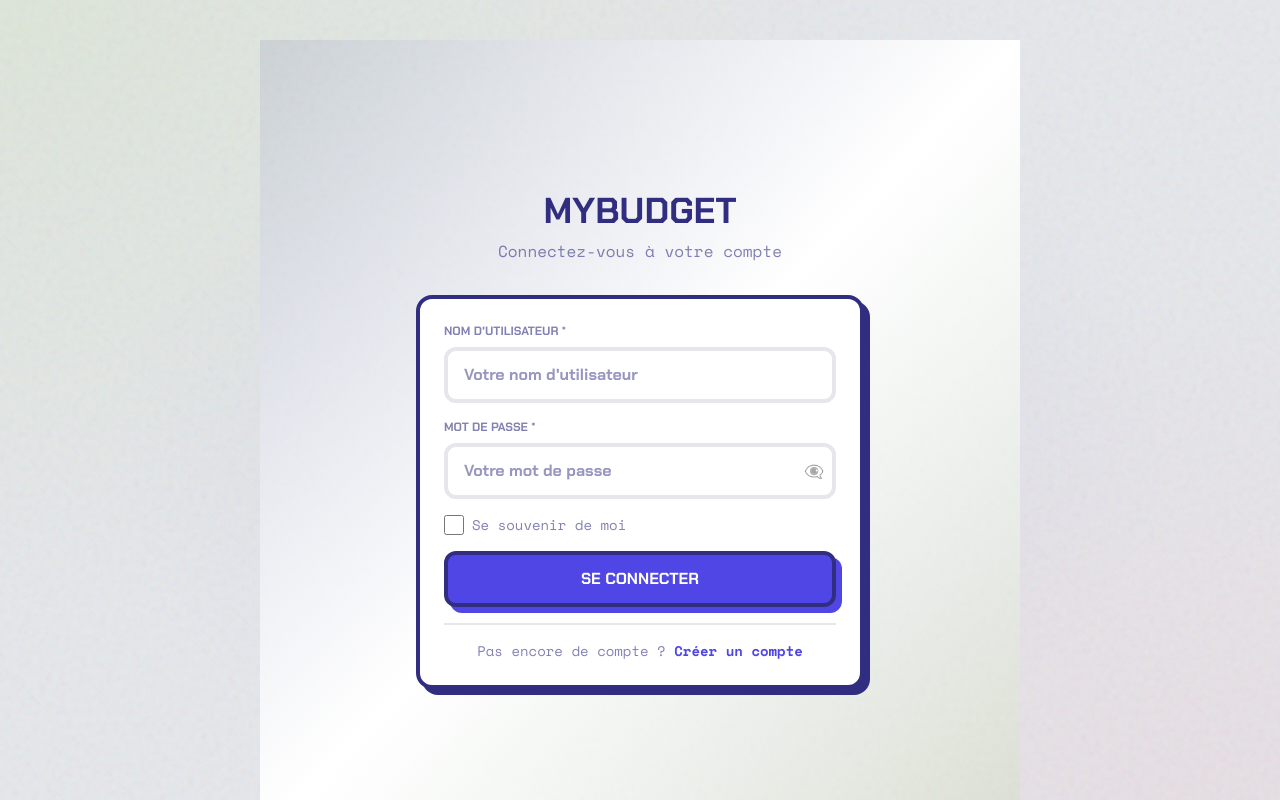
it: US02 - Connexion › Le bouton 'Se connecter' passe en état Loading pendant l'appel API
Type "alice" into the field with placeholder "Votre nom d'utilisateur" at (640, 375), box [444, 347, 836, 403]
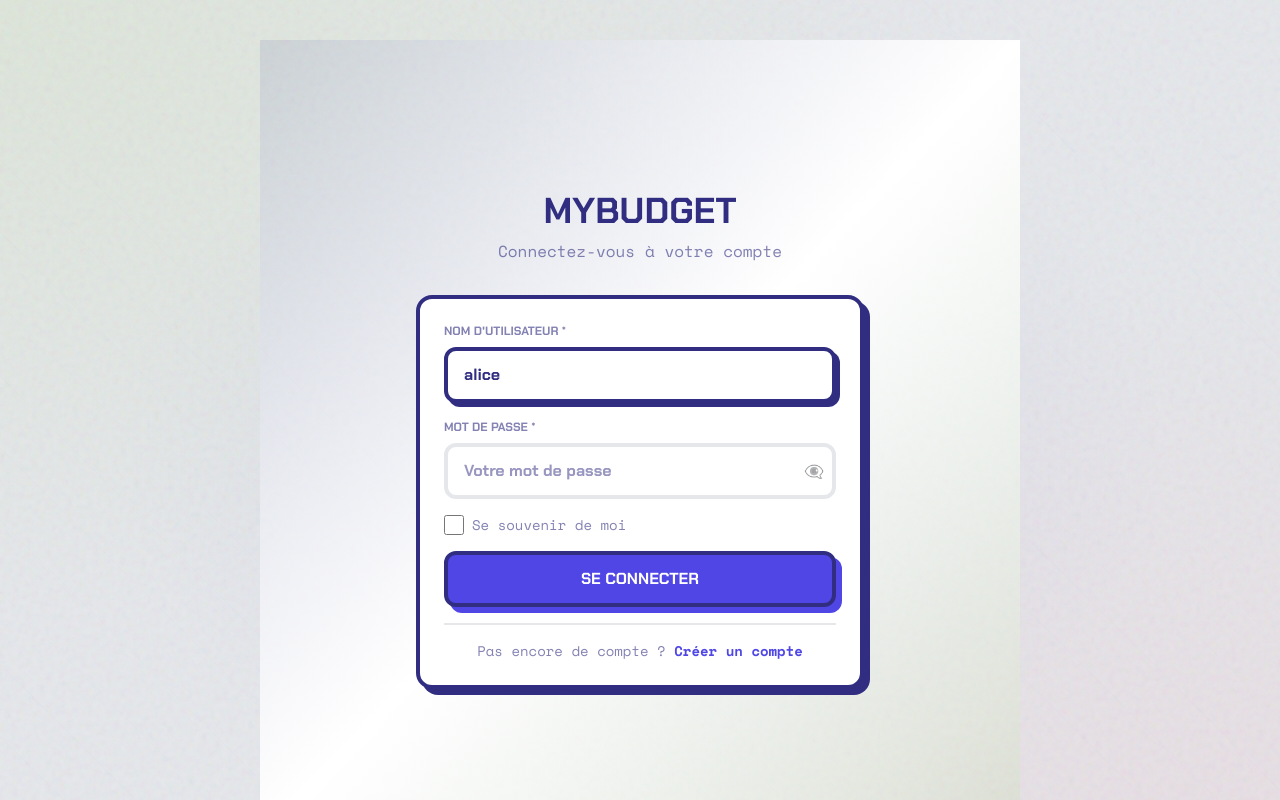
Type "Password123!" into the password field with placeholder "Votre mot de passe" at (640, 471), box [444, 443, 836, 499]
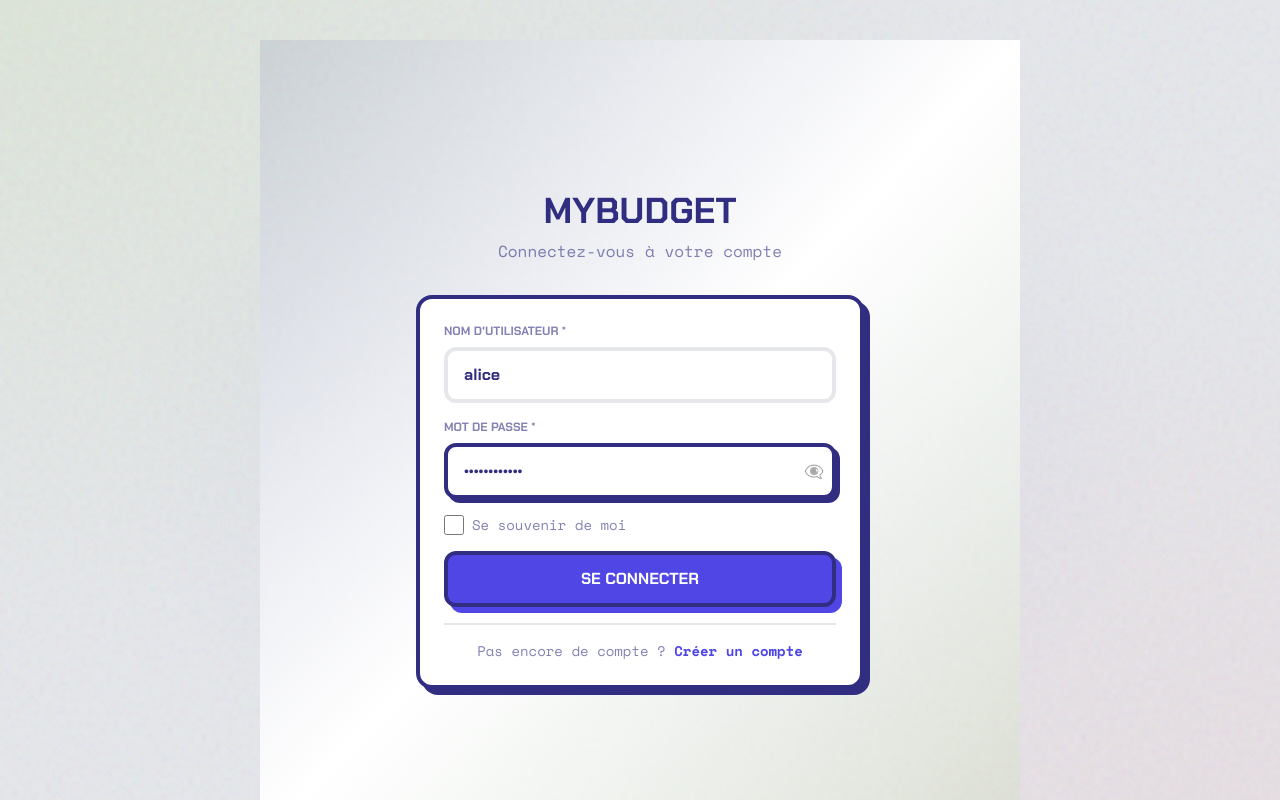
Click the button "Se connecter" at (640, 579), box [444, 551, 836, 607]
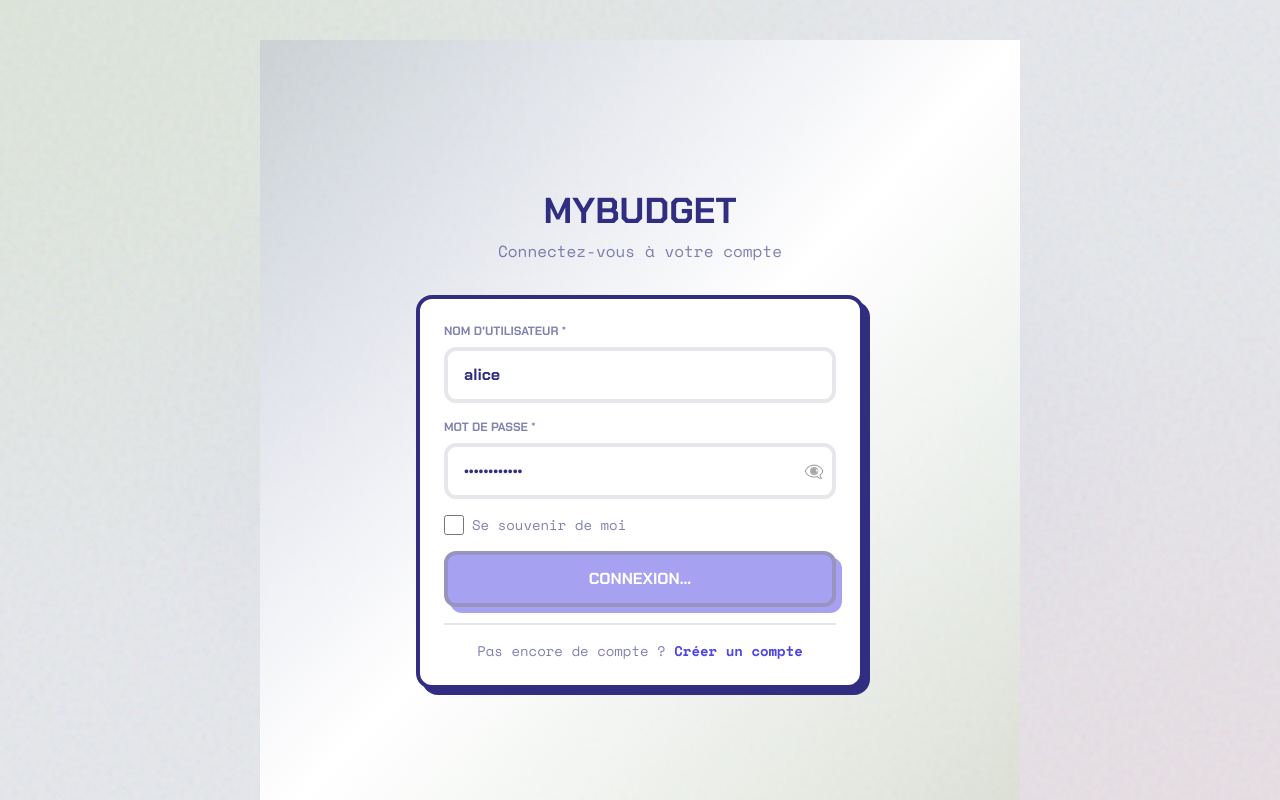
Expected: the button "Connexion..." is disabled, [444, 551, 836, 607]
